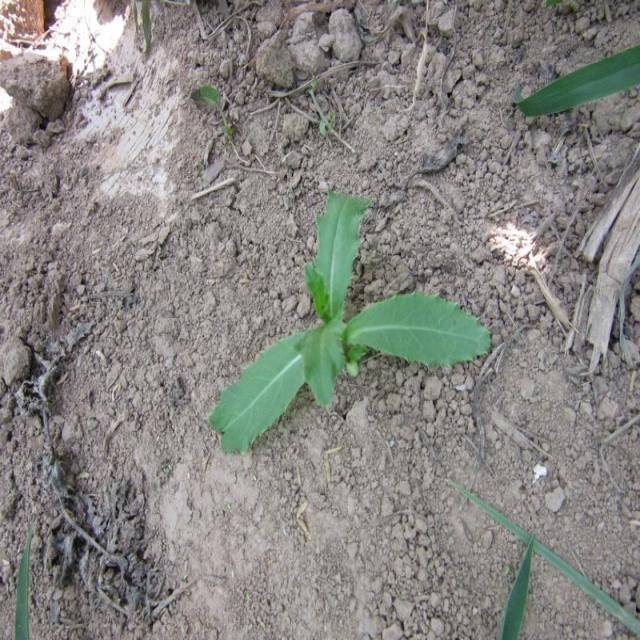cs: (208, 178, 496, 459)
